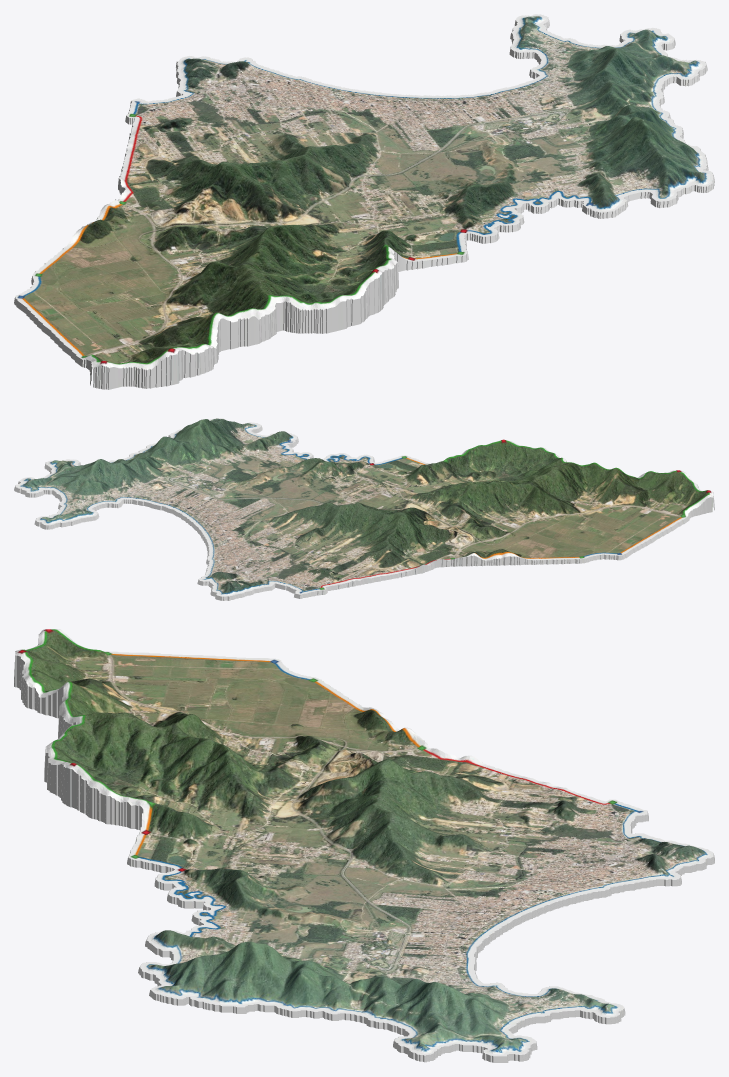
Rendered from penha.glb.
The picture shows the model from 3 angles, top to bottom: view 1: azimuth 30°, elevation 25°; view 2: azimuth 150°, elevation 25°; view 3: azimuth 270°, elevation 25°; orthographic projection. The views are drawn at different scales.
Bounding box in the file's own units: 1 × 0.0508 × 0.7196.
1 material, 1 textured.
